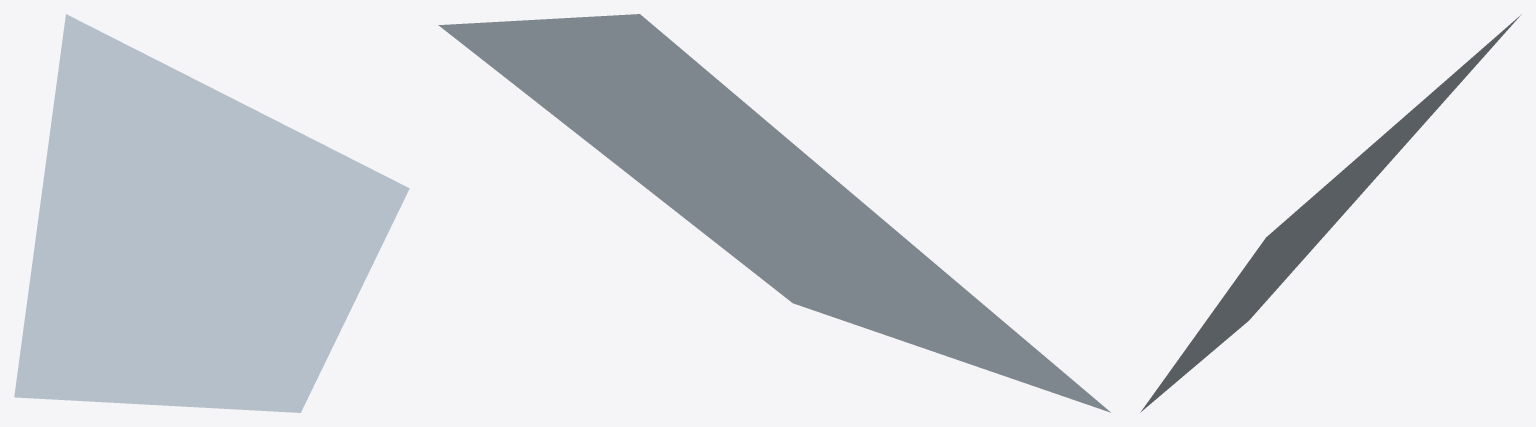
Rendered from palmar-lunotriquetral-ligament-l.glb.
3 views of the same model, side by side, from view 1: azimuth 30°, elevation 25°; view 2: azimuth 150°, elevation 25°; view 3: azimuth 270°, elevation 25° (orthographic). The views are drawn at different scales.
Parts seen in each view (by area): view 1: Palmar lunotriquetral ligament.l; view 2: Palmar lunotriquetral ligament.l; view 3: Palmar lunotriquetral ligament.l.
Part boxes in pixels (box(x1,y1,x2,y2)): Palmar lunotriquetral ligament.l: box(14, 14, 409, 412); Palmar lunotriquetral ligament.l: box(438, 14, 1110, 412); Palmar lunotriquetral ligament.l: box(1140, 14, 1521, 412).
Bounding box in the file's own units: 0.00416 × 0.00306 × 0.00298.
